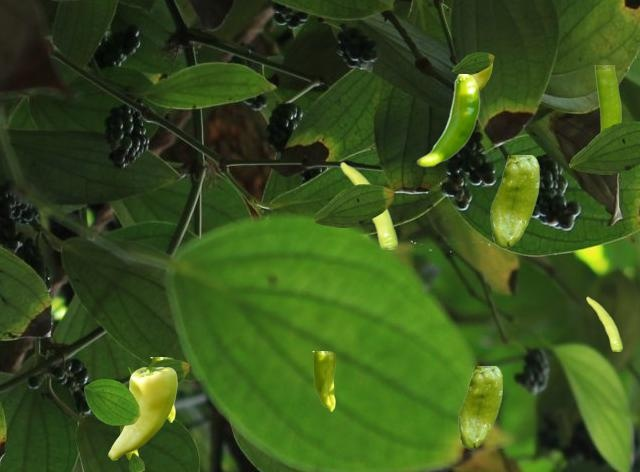green_chili: (108, 367, 176, 459), (416, 74, 479, 166), (340, 161, 396, 248), (490, 155, 538, 247), (458, 366, 501, 448), (586, 296, 621, 350), (594, 65, 620, 130), (150, 357, 174, 421), (312, 351, 334, 410), (119, 425, 137, 460), (472, 65, 491, 91)
